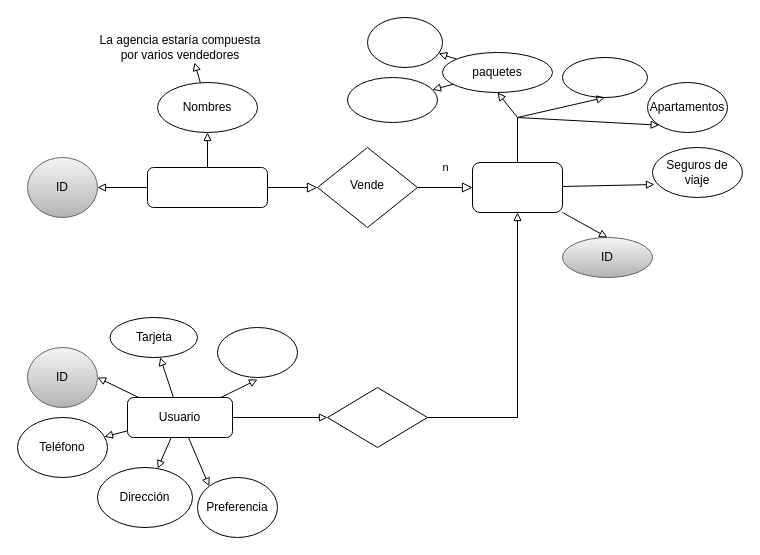
Some shapes in this 760 by 555 pixel diagram are drawn without their labels. The shapes that lost their labels are listed below. From the top down, each one's box as (x1, y1, x2, y2) in pixels, then its label:
(366, 16, 442, 68): Nacionales
(562, 56, 648, 98): Hoteles
(346, 76, 438, 122): Internacionales
(146, 166, 268, 208): Agencia
(472, 162, 562, 212): Experiencias
(216, 326, 298, 378): Edad
(326, 386, 428, 448): Comprar
